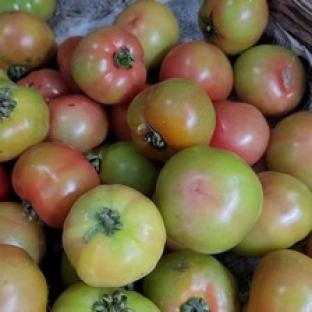Tomato: (154, 145, 263, 253), (63, 184, 165, 286), (13, 143, 100, 228), (127, 78, 215, 161), (236, 172, 311, 256), (72, 26, 147, 104), (143, 251, 240, 311), (233, 44, 306, 116), (159, 41, 233, 101), (247, 250, 311, 311), (209, 101, 270, 165), (46, 94, 110, 153), (0, 83, 48, 161), (0, 12, 55, 79), (265, 111, 311, 189), (99, 141, 160, 197), (0, 244, 48, 311), (51, 282, 160, 311), (0, 201, 47, 264), (17, 67, 71, 101), (56, 35, 82, 93), (59, 250, 80, 288), (109, 104, 130, 140), (0, 163, 11, 201), (304, 232, 311, 257)
